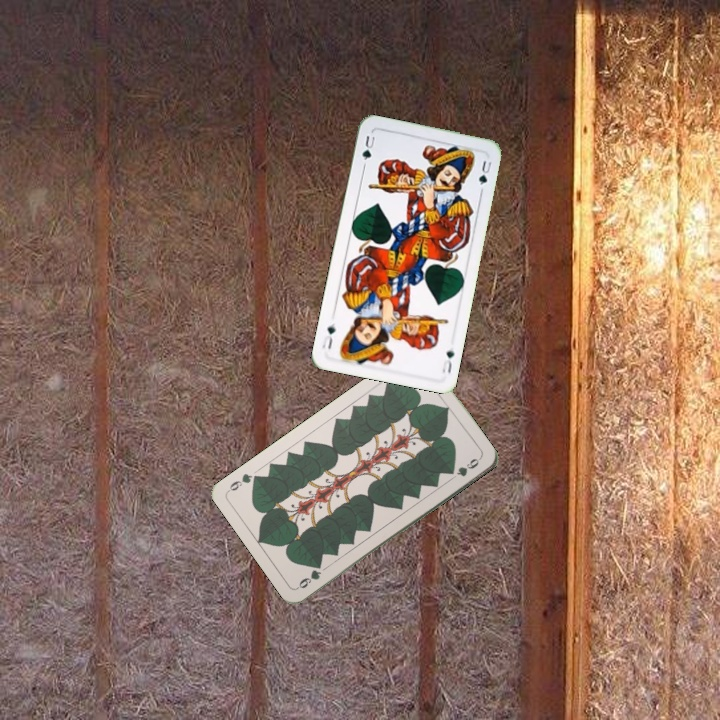G9: (293, 566, 324, 591)
GU: (358, 132, 378, 169), (438, 346, 457, 376)
